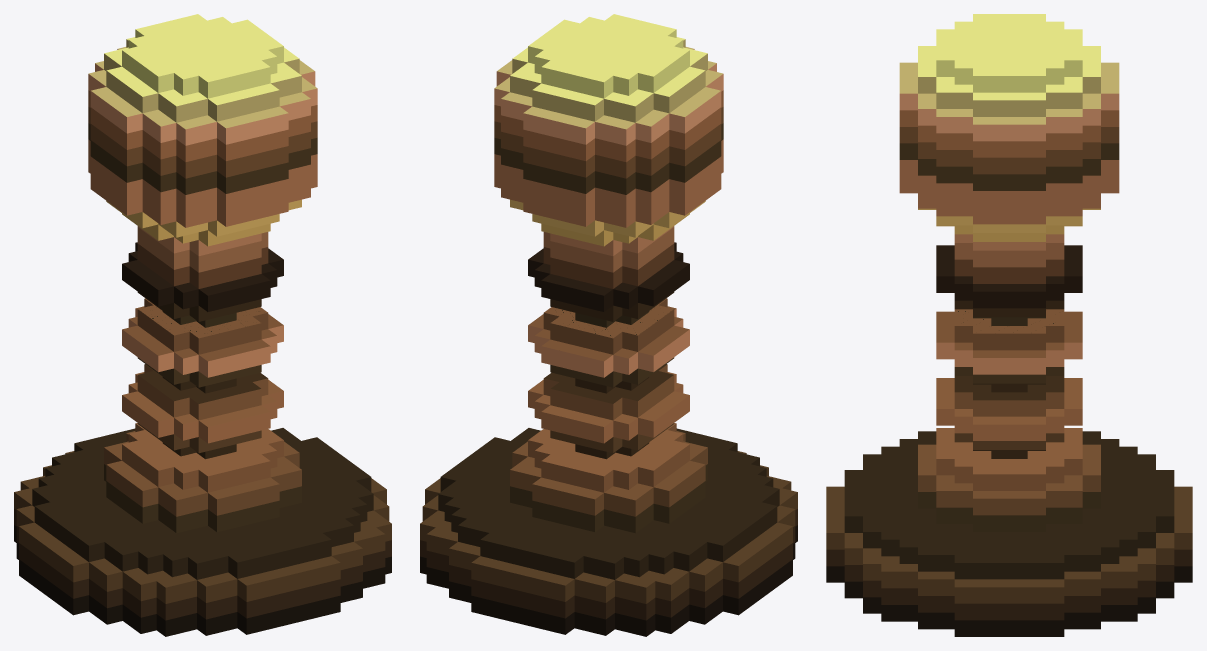
File: SMGT_stand.obj
The picture shows the model from 3 angles, left to right: view 1: azimuth 30°, elevation 25°; view 2: azimuth 150°, elevation 25°; view 3: azimuth 270°, elevation 25°; orthographic projection.
Visible parts, largest first — view 1: TorchFlame; view 2: TorchFlame; view 3: TorchFlame.
Part boxes in pixels (<box>): TorchFlame: <box>14,14,391,636</box>; TorchFlame: <box>420,14,797,636</box>; TorchFlame: <box>826,14,1192,636</box>.
Bounding box in the file's own units: 0.6452 × 1 × 0.6452.
Materials: 1 (1 with a texture image).
